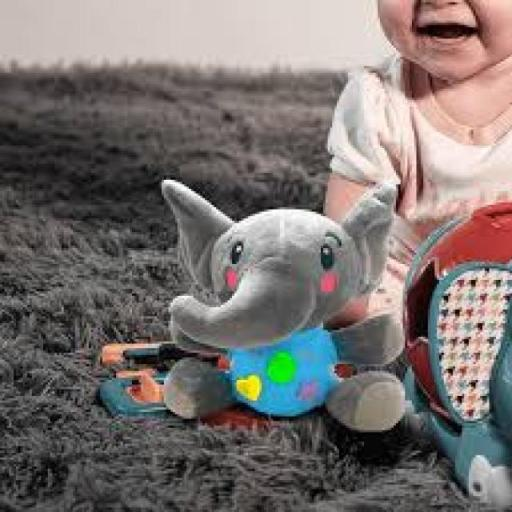baby: (325, 0, 511, 326)
